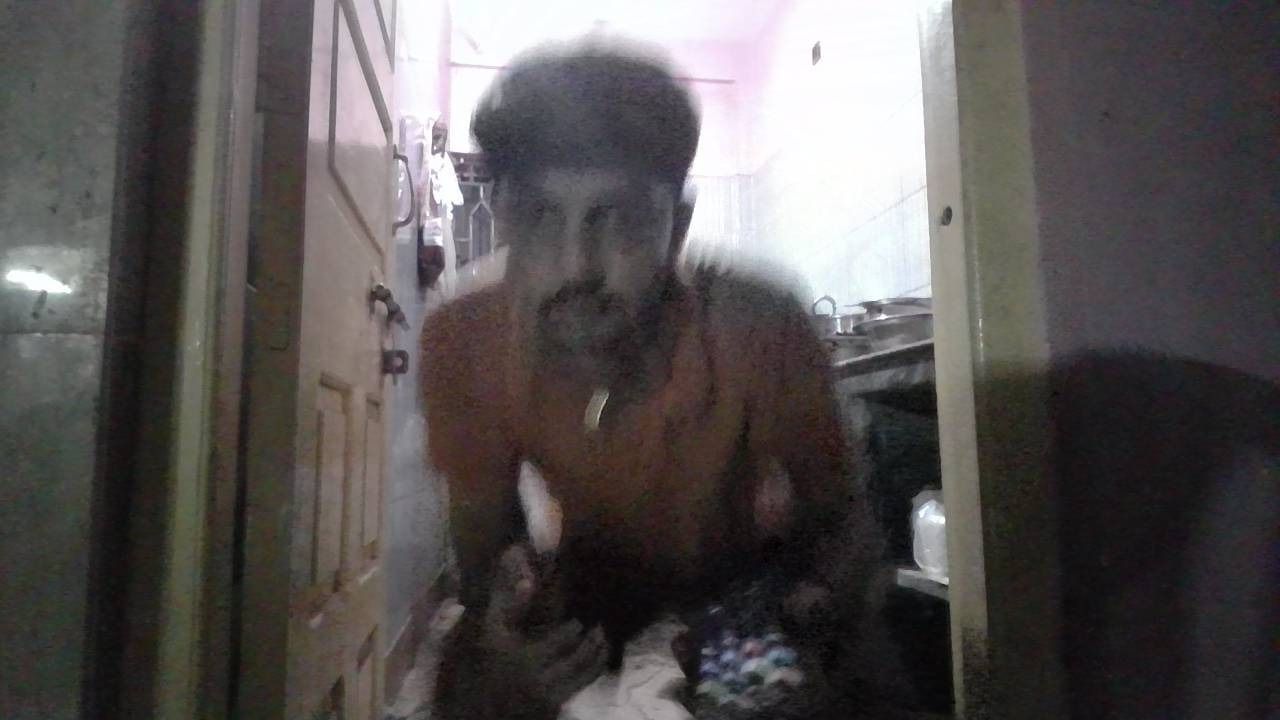red_box: (584, 415, 680, 500), (463, 391, 575, 454), (430, 413, 488, 492)
